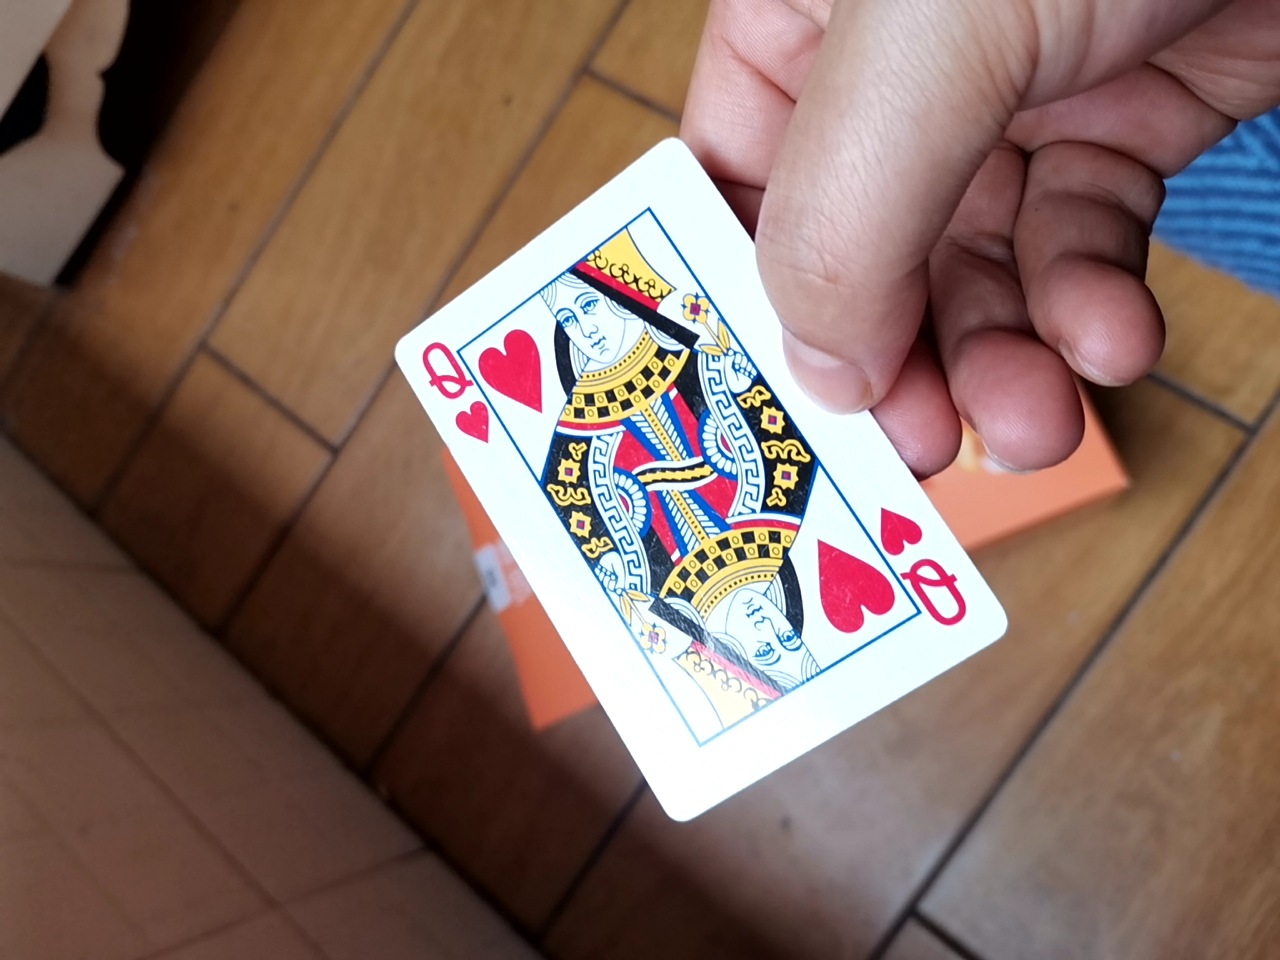hx q: (377, 130, 1003, 845)
